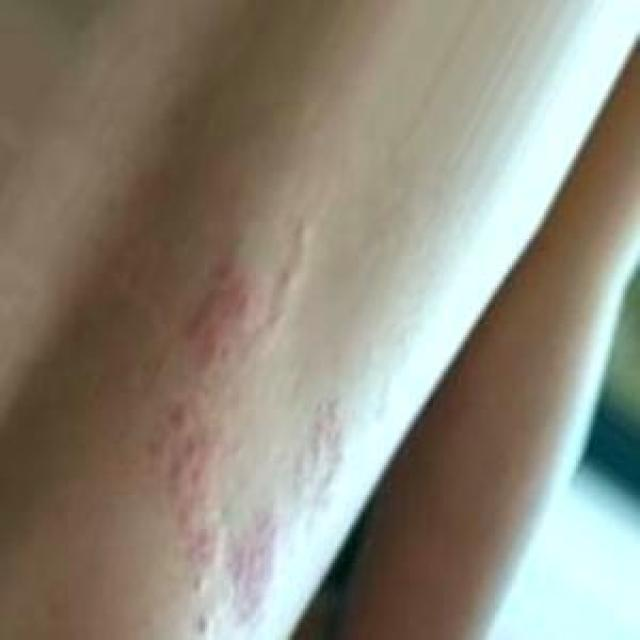Shingles: (146, 390, 276, 637), (187, 215, 312, 381), (292, 391, 346, 516)
